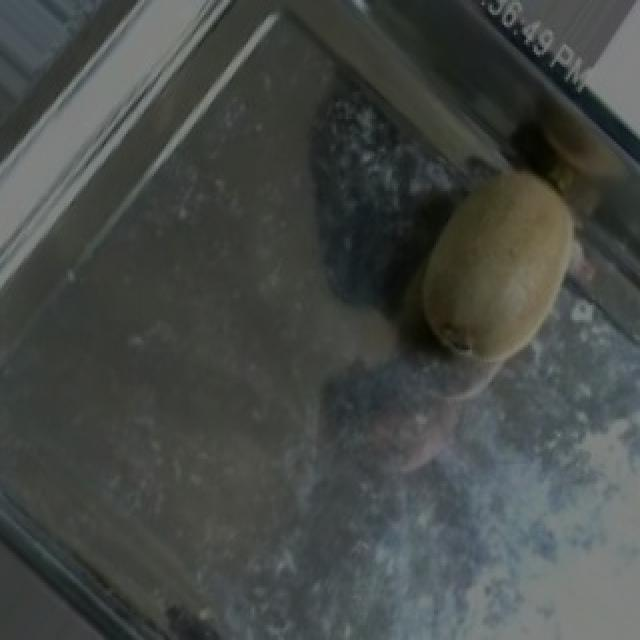Fruit: (396, 136, 608, 382)
